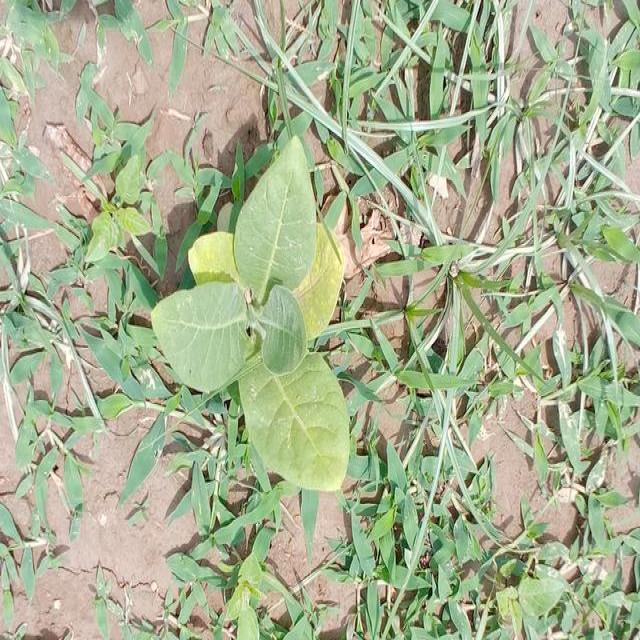crop: (153, 130, 355, 491)
